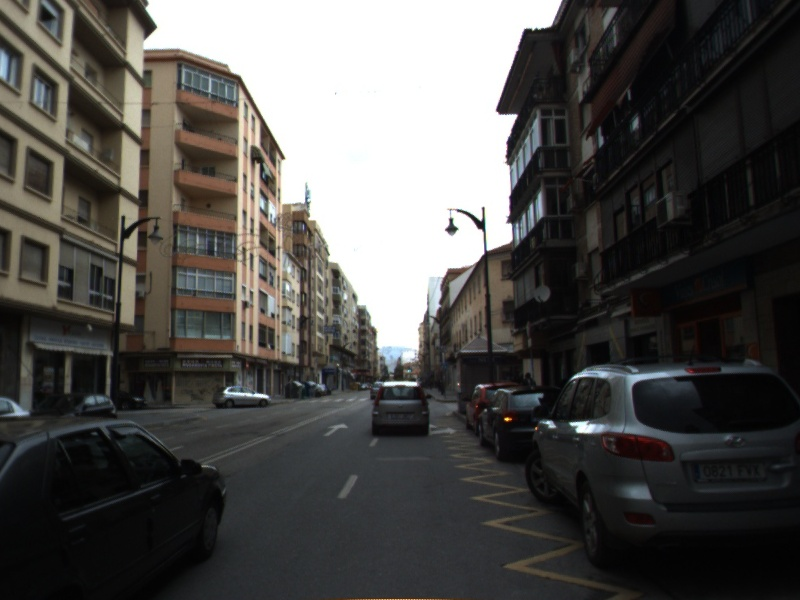STRAIGHT: (321, 421, 350, 438)
